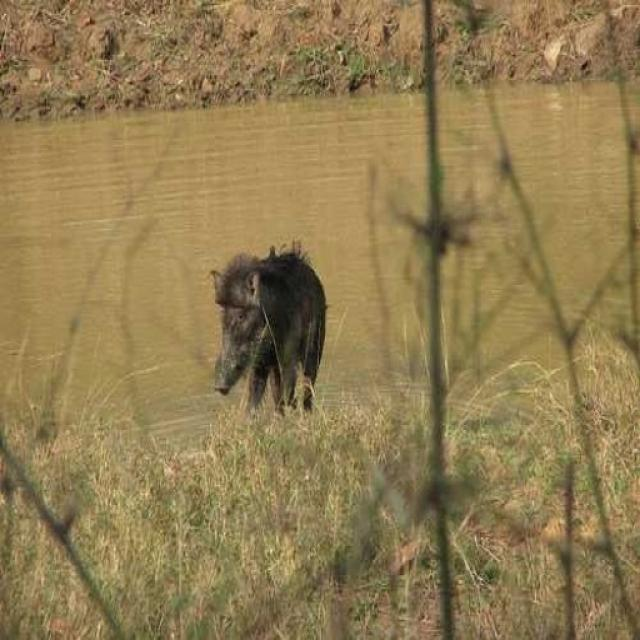pig: (193, 232, 355, 424)
